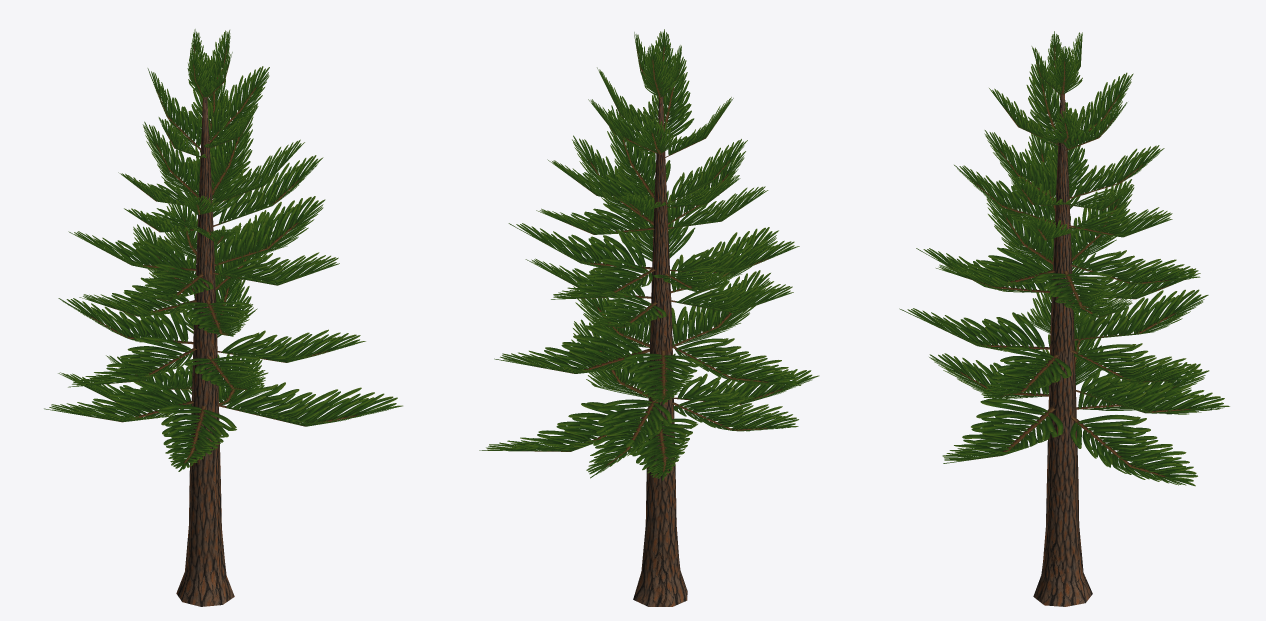
Rendered from Pine01.fbx.
3 renders of one model, left to right at view 1: azimuth 30°, elevation 25°; view 2: azimuth 150°, elevation 25°; view 3: azimuth 270°, elevation 25°, orthographic.
Parts seen in each view (by area): view 1: Pine01_LOD0; view 2: Pine01_LOD0; view 3: Pine01_LOD0.
Part boxes in pixels (box(x1,y1,x2,y2)): Pine01_LOD0: box(44, 29, 402, 606); Pine01_LOD0: box(479, 29, 819, 606); Pine01_LOD0: box(899, 31, 1229, 606).
Size of what is drawn, in the model's own units: 2.65 by 4.15 by 2.46.
